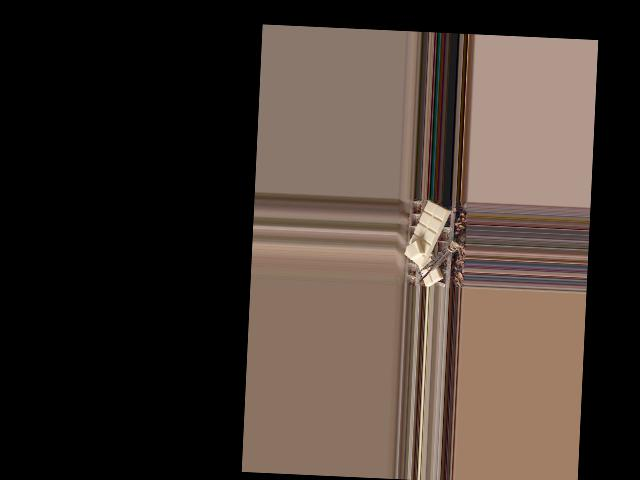chocolate: (404, 200, 449, 270)
